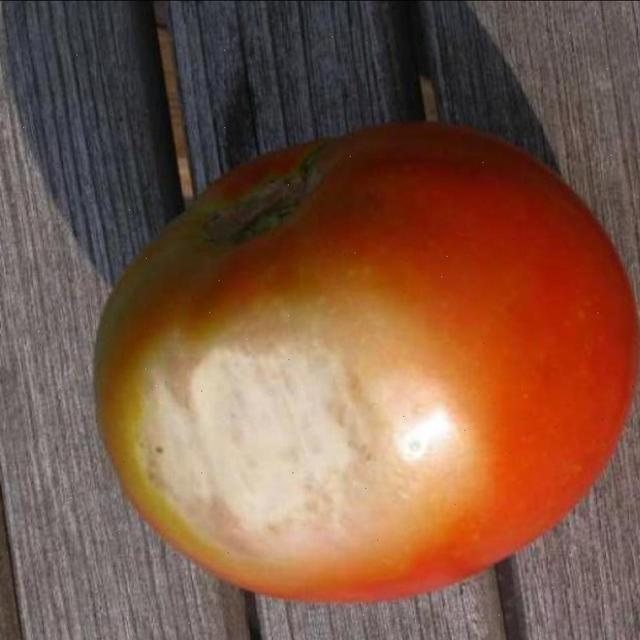Sunscald Fruit: (74, 199, 319, 373)
